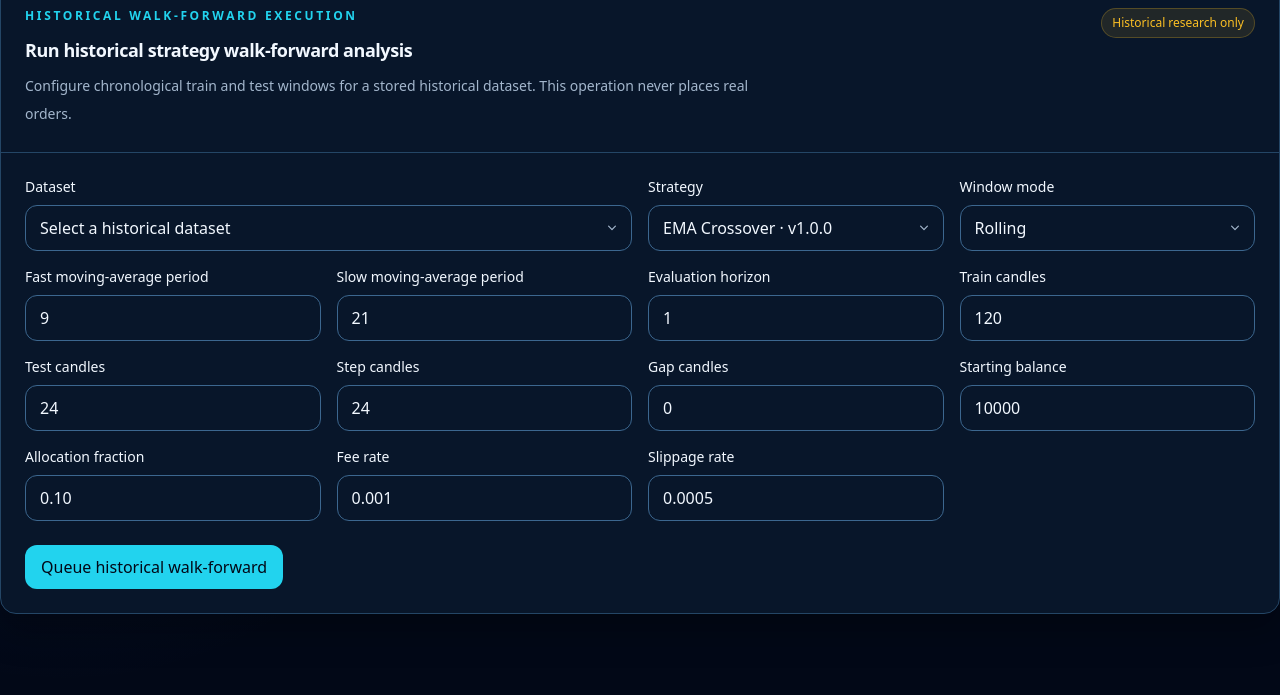
Test: WalkForwardRunForm › shows the estimated fold count and queues an execution
The image size is (1280, 695).
Step 1. Select "BTC historical dataset · BTC/USDT · 1h" in the dropdown labelled "Dataset" → point(328, 228), box [25, 205, 632, 251]
(page scrolled)
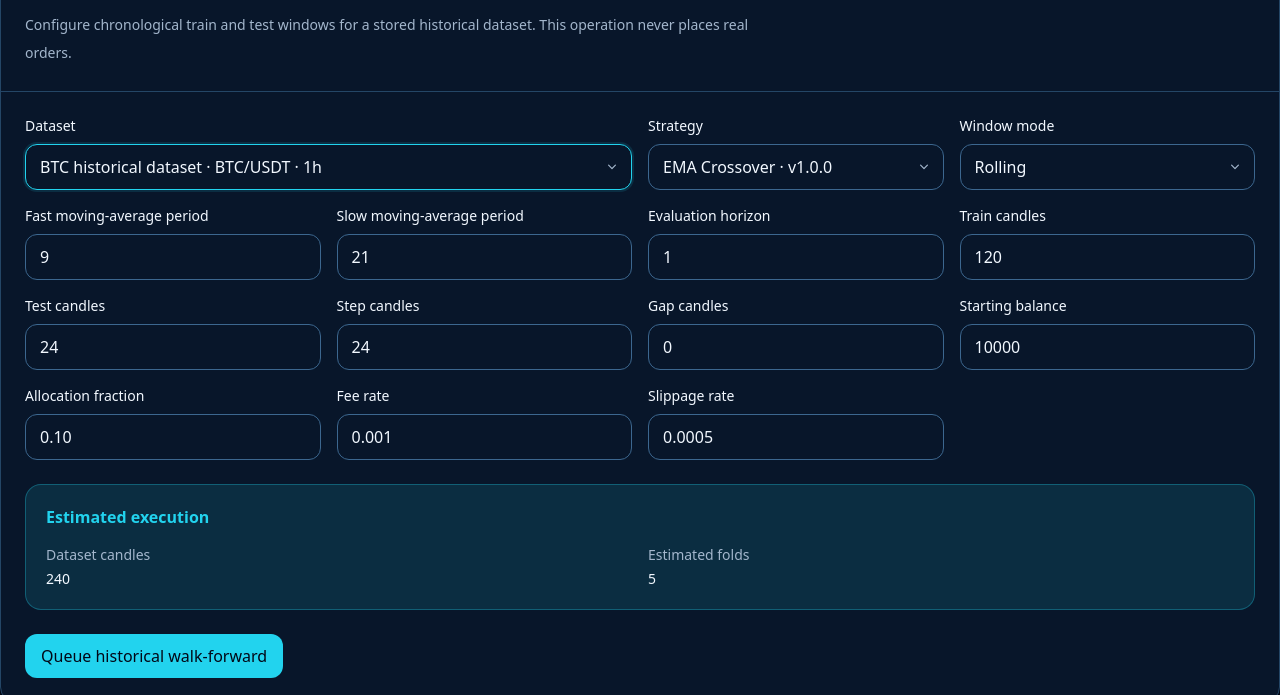
Step 2. Click the button "Queue historical walk-forward" → point(154, 656), box [25, 634, 283, 678]
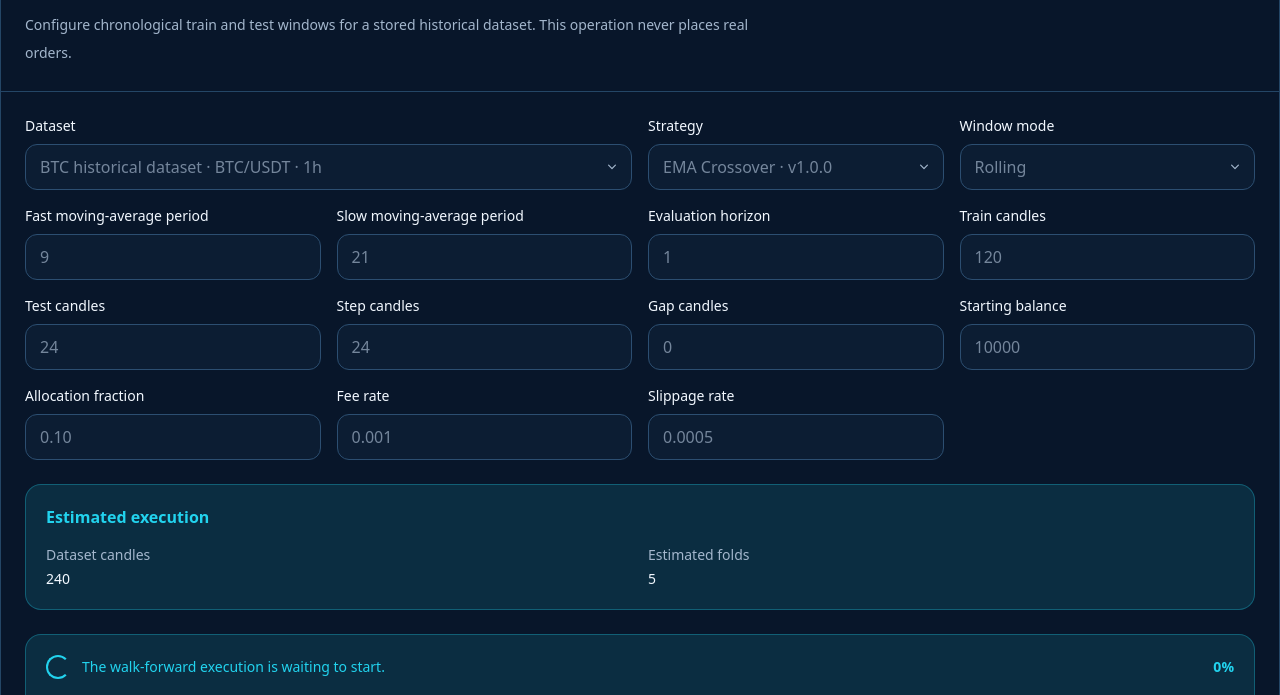
expect the text "The walk-forward execution is waiting to start." is shown: met, box [82, 657, 385, 677]
